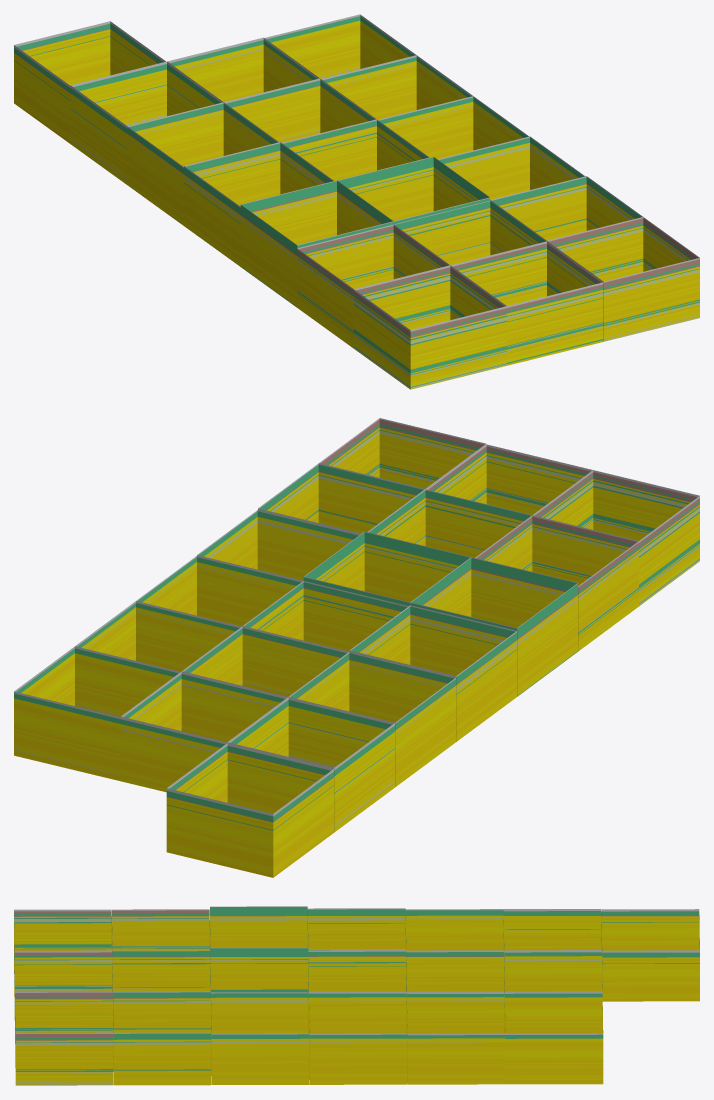
3 views of the same model, one above another, from view 1: azimuth 30°, elevation 25°; view 2: azimuth 150°, elevation 25°; view 3: azimuth 270°, elevation 25° (orthographic). The views are drawn at different scales.
Visible parts, largest first — view 1: mesh; view 2: mesh; view 3: mesh.
Boxes of the visible parts, <box> form: mesh: <box>14,14,699,389</box>; mesh: <box>14,418,699,877</box>; mesh: <box>14,906,699,1085</box>.
Size of what is drawn, in the model's own units: 496 by 101 by 1146.
